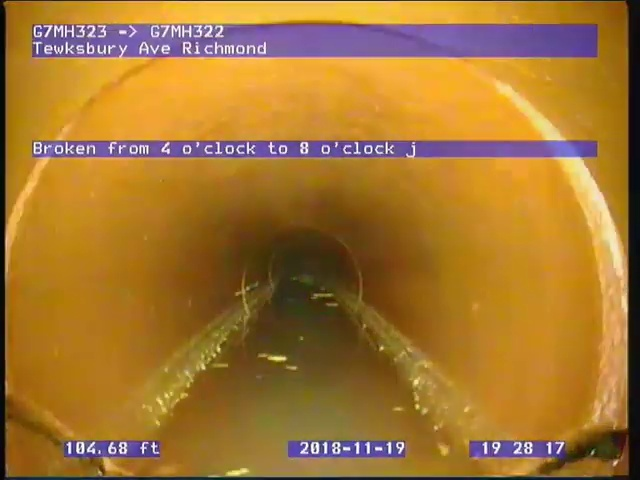crack: (6, 388, 134, 478), (527, 428, 628, 475)
